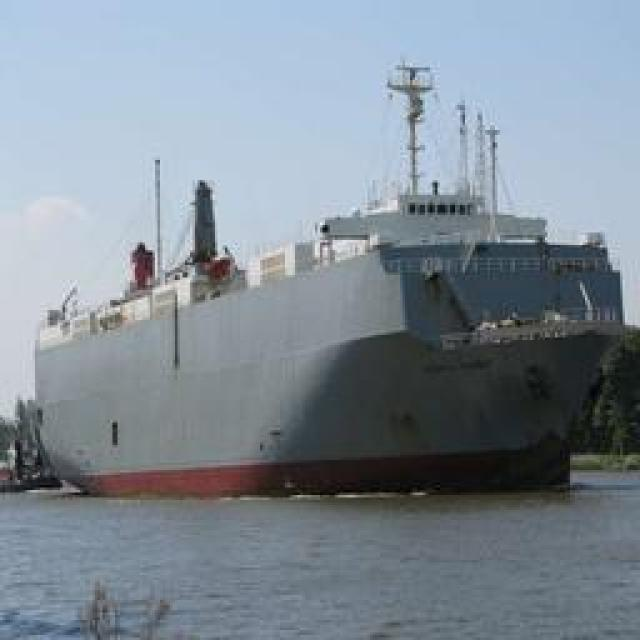CIV_Ship: (24, 55, 622, 500)
